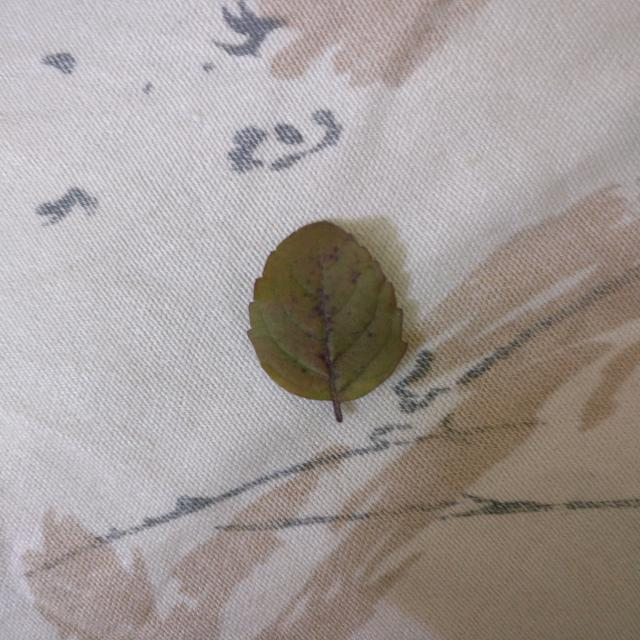defectedtulsi: (265, 221, 385, 359)
tulsi: (248, 221, 407, 421)
